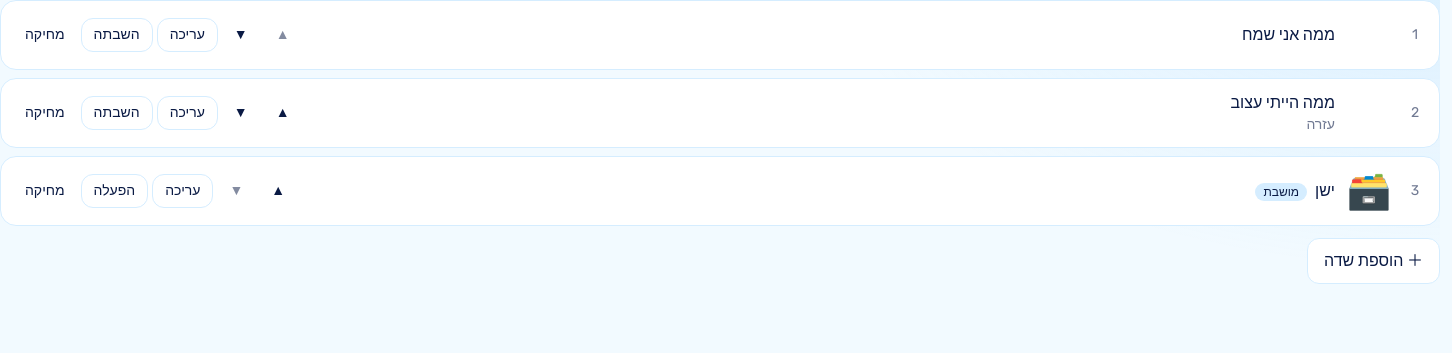
Test case: FieldsManager › shows the server error when deleting a field with entries
Click the button "מחיקה" in the row of "ממה אני שמח": (45, 35) [13,18,77,52]
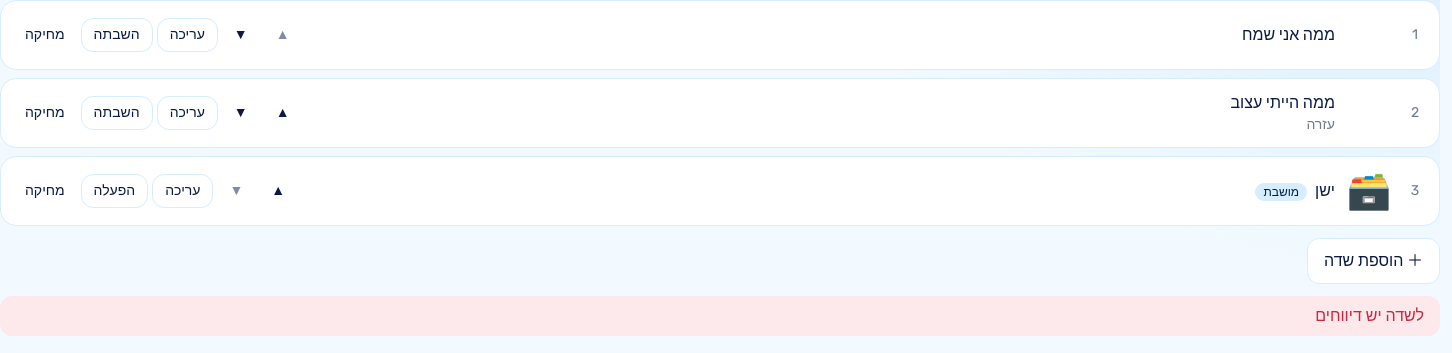
Expected: the message reads "לשדה יש דיווחים", [1315,306,1424,325]
